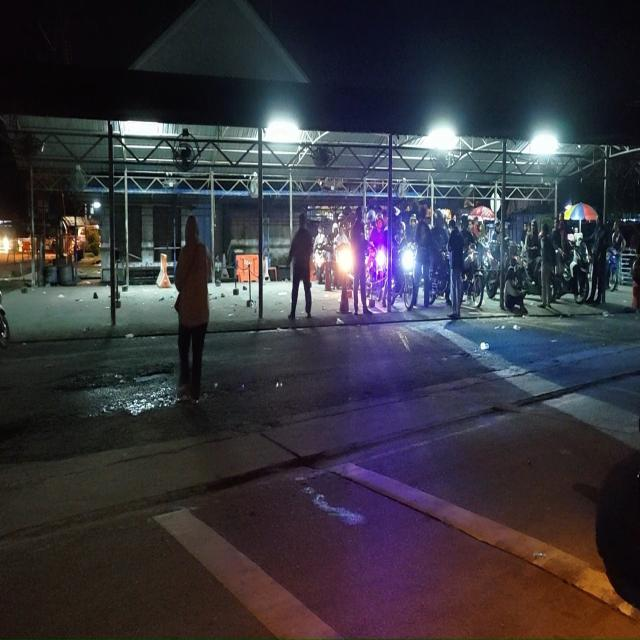Golongan II: (551, 243, 589, 304), (392, 243, 419, 310), (514, 256, 553, 300), (462, 244, 484, 308), (366, 243, 387, 302), (429, 251, 450, 305), (481, 242, 500, 300), (335, 243, 353, 286), (314, 244, 331, 285), (606, 248, 620, 292)
